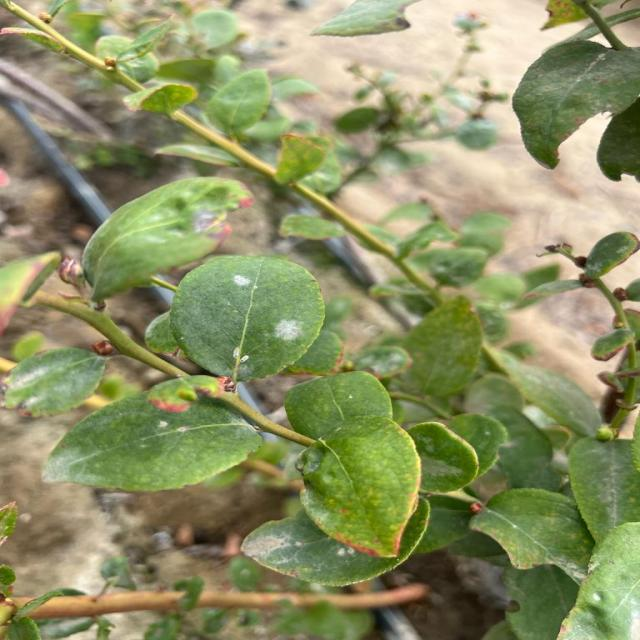Hojas con oidiosis: (38, 384, 264, 494), (168, 250, 328, 382), (236, 487, 432, 588), (290, 414, 425, 560), (368, 420, 478, 494)
